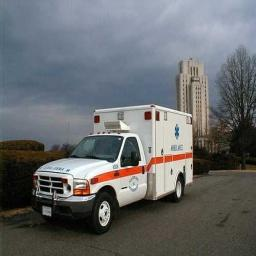ambulance: (32, 105, 192, 233)
